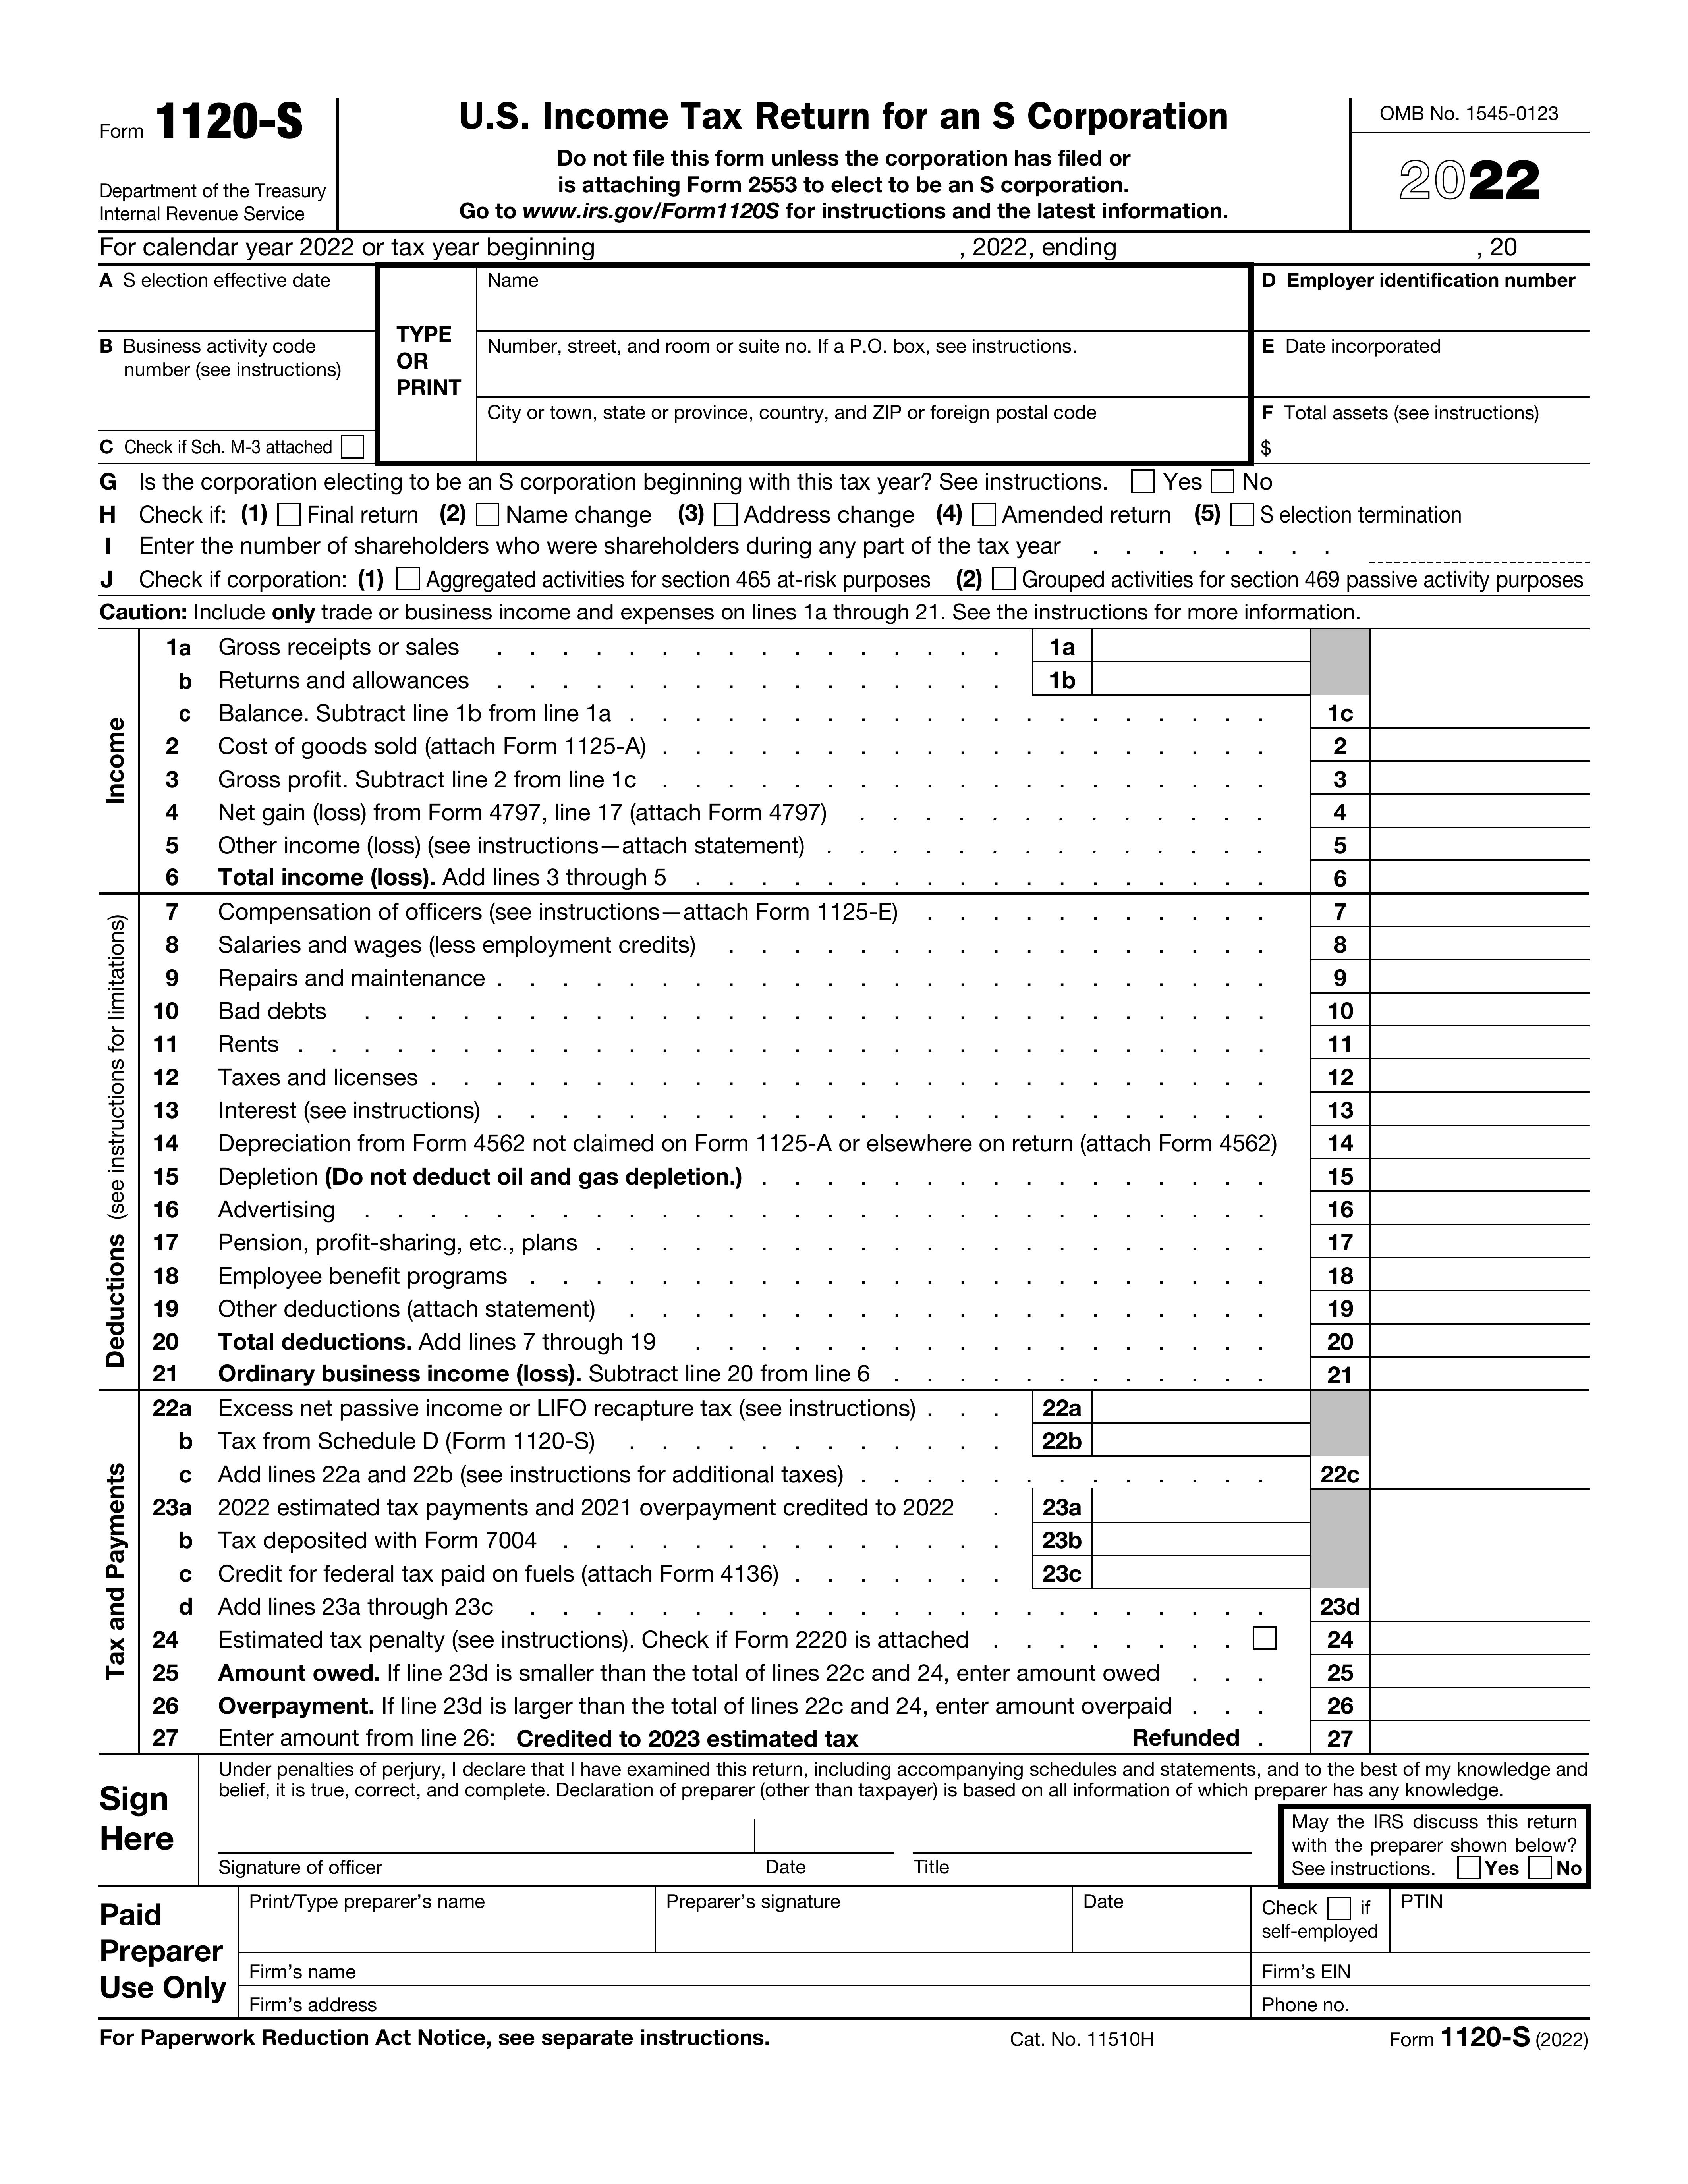form: (80, 66, 1629, 597), (67, 1753, 1644, 2026)
table: (67, 629, 1631, 1751)
